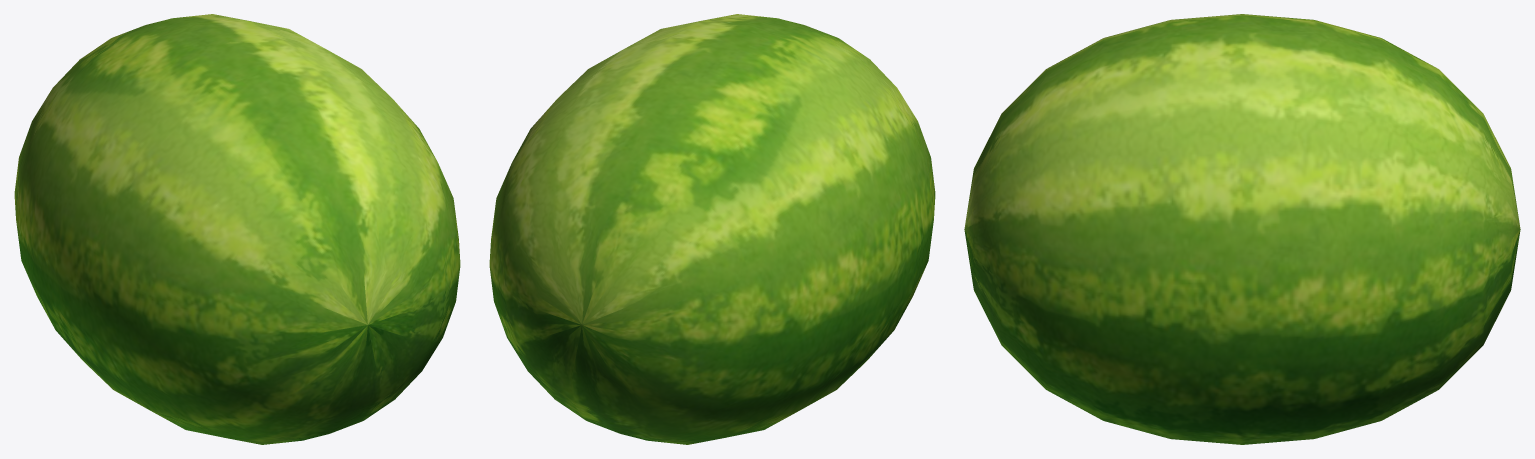
Rendered from Watermelon.FBX.
3 renders of one model, left to right at view 1: azimuth 30°, elevation 25°; view 2: azimuth 150°, elevation 25°; view 3: azimuth 270°, elevation 25°, orthographic. The views are drawn at different scales.
Visible parts, largest first — view 1: Watermelon; view 2: Watermelon; view 3: Watermelon.
Boxes of the visible parts, x1=… form: Watermelon: x1=14, y1=14, x2=460, y2=444; Watermelon: x1=489, y1=14, x2=935, y2=444; Watermelon: x1=964, y1=14, x2=1520, y2=444.
Bounding box in the file's own units: 41.99 × 41.99 × 53.97.
1 material, 1 textured.
